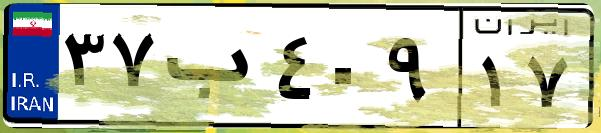0: (330, 28, 385, 110)
1: (475, 38, 525, 113)
3: (57, 26, 110, 100)
4: (270, 28, 330, 110)
7: (525, 38, 570, 115), (110, 28, 158, 98)
9: (385, 28, 445, 110)
ب: (158, 20, 270, 120)
